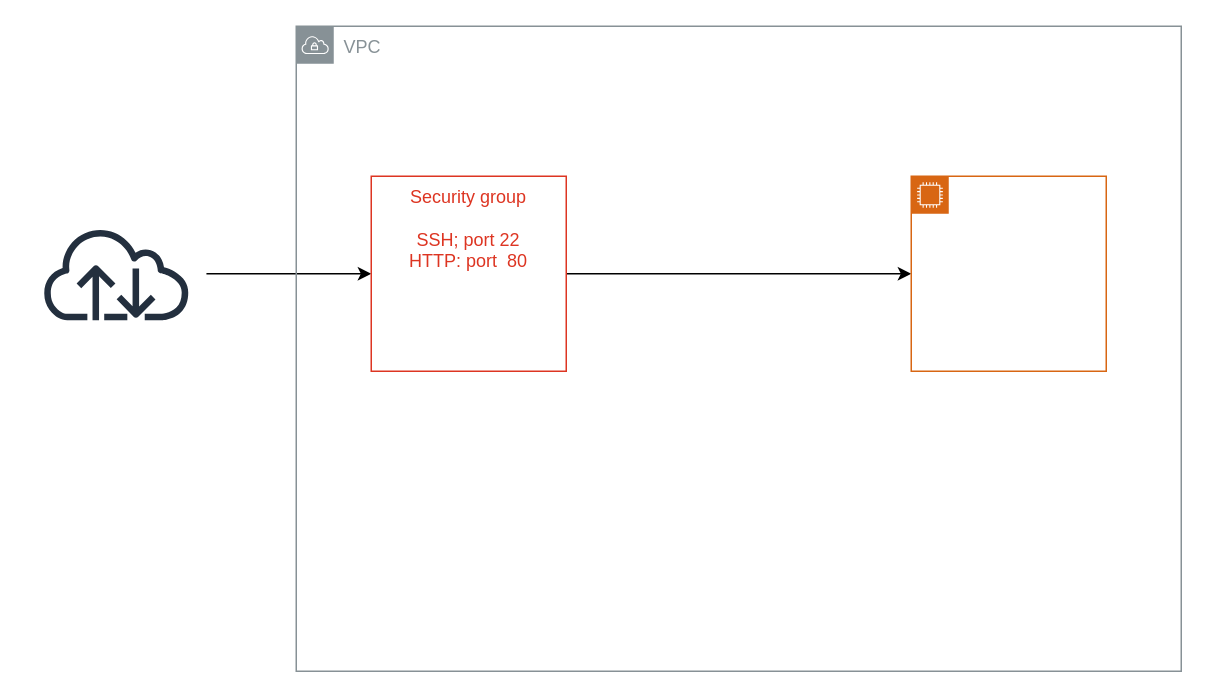
This 1208x698 diagram has some shape labels left out. Here are the shapes that lost their labels. From the top down, the centre of each, then its label:
At pixel 115 273: "Internet".
At pixel 1008 273: "EC2 instance contents".
